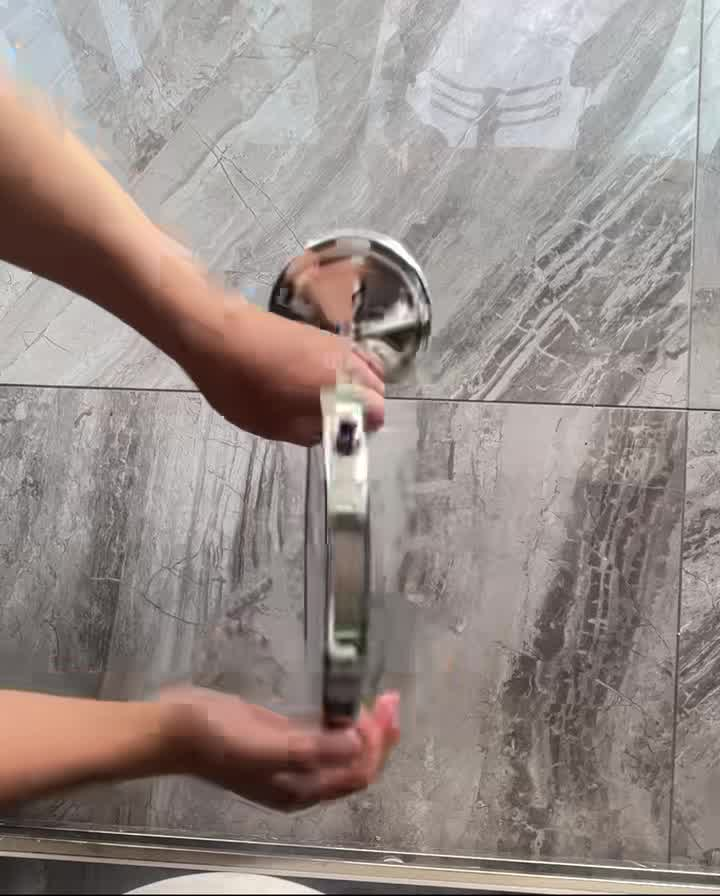base: (263, 222, 470, 373)
